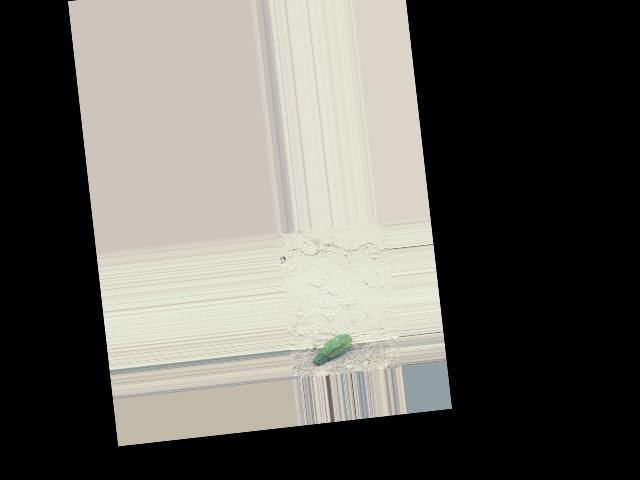cucumber: (311, 332, 354, 365)
